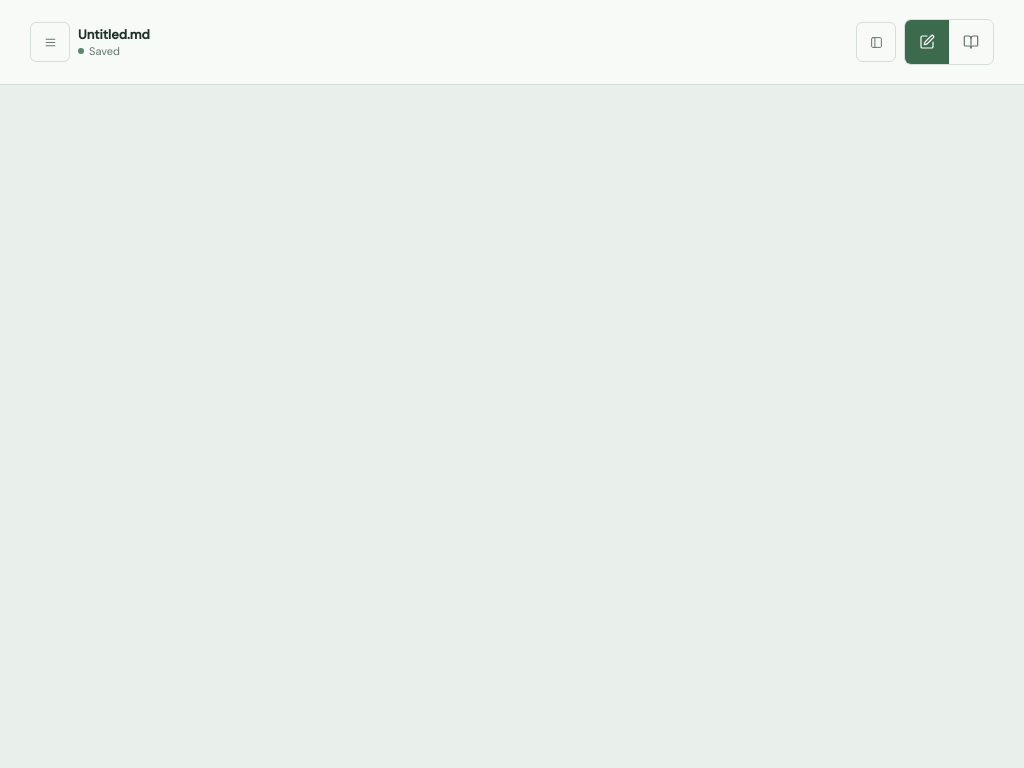
Test case: Toolbar › opens action sheet when hamburger menu is clicked
Click the button named "Menu" at (50,42), box [30,22,70,62]
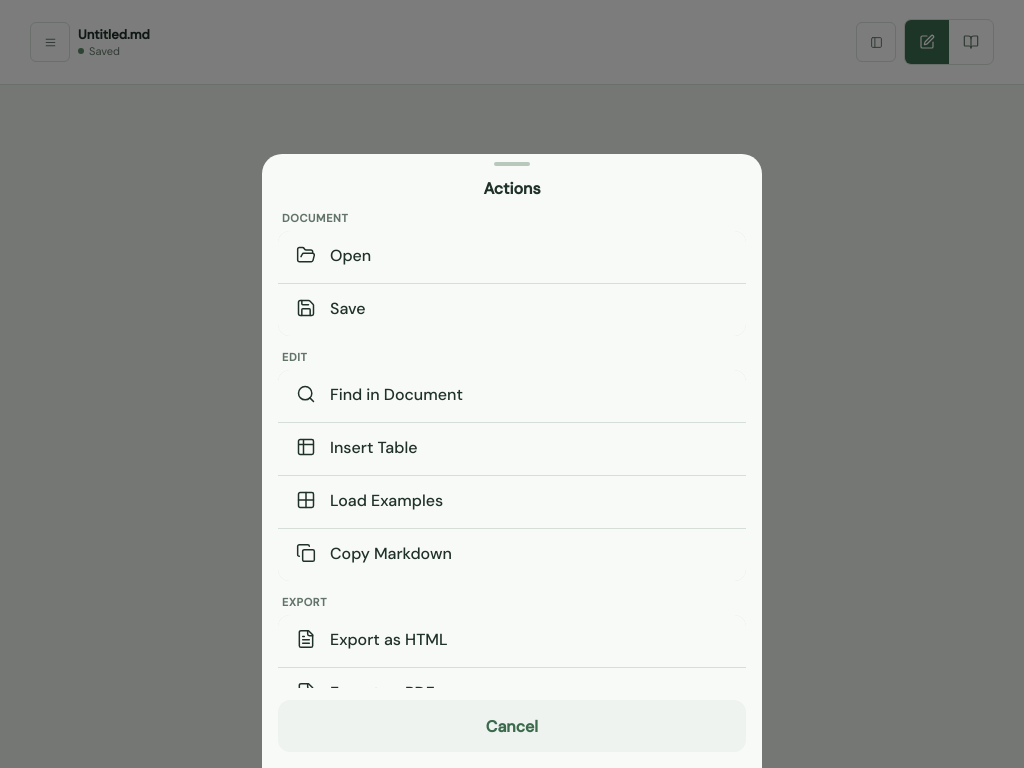
Check: the dialog with class "mobile-action-sheet" is shown, box [262,154,762,767]
Check: the element with class "mobile-action-sheet-backdrop" is shown
